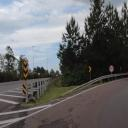speed_limit_40: (109, 65, 114, 72)
